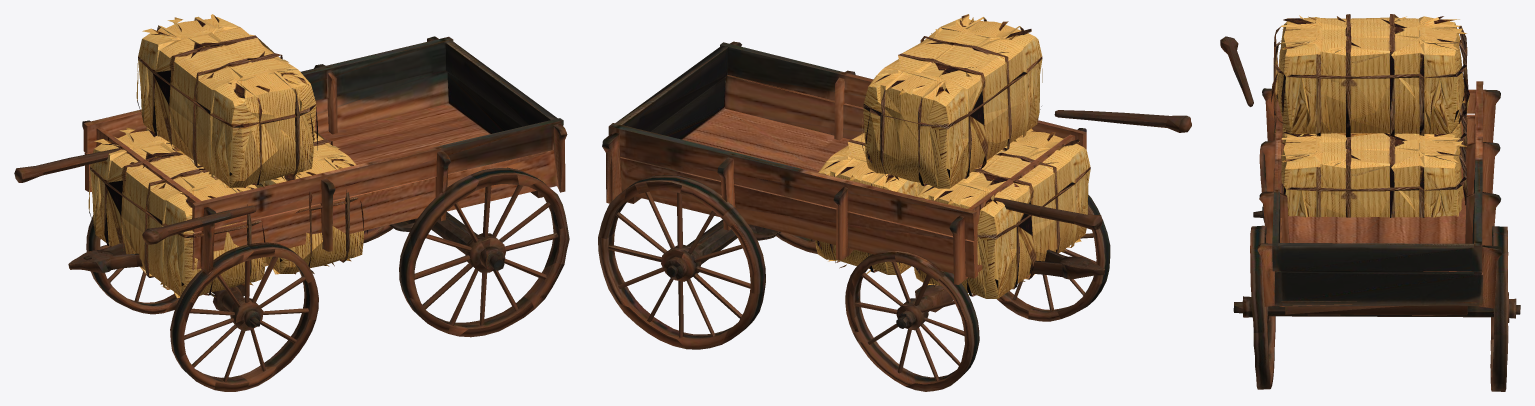
The model's file is loaded-cart.glb.
3 views of the same model, side by side, from view 1: azimuth 30°, elevation 25°; view 2: azimuth 150°, elevation 25°; view 3: azimuth 270°, elevation 25° (orthographic). The views are drawn at different scales.
Bounding box in the file's own units: 2.2 × 1.34 × 1.36.
Materials: 2 (2 with a texture image).
